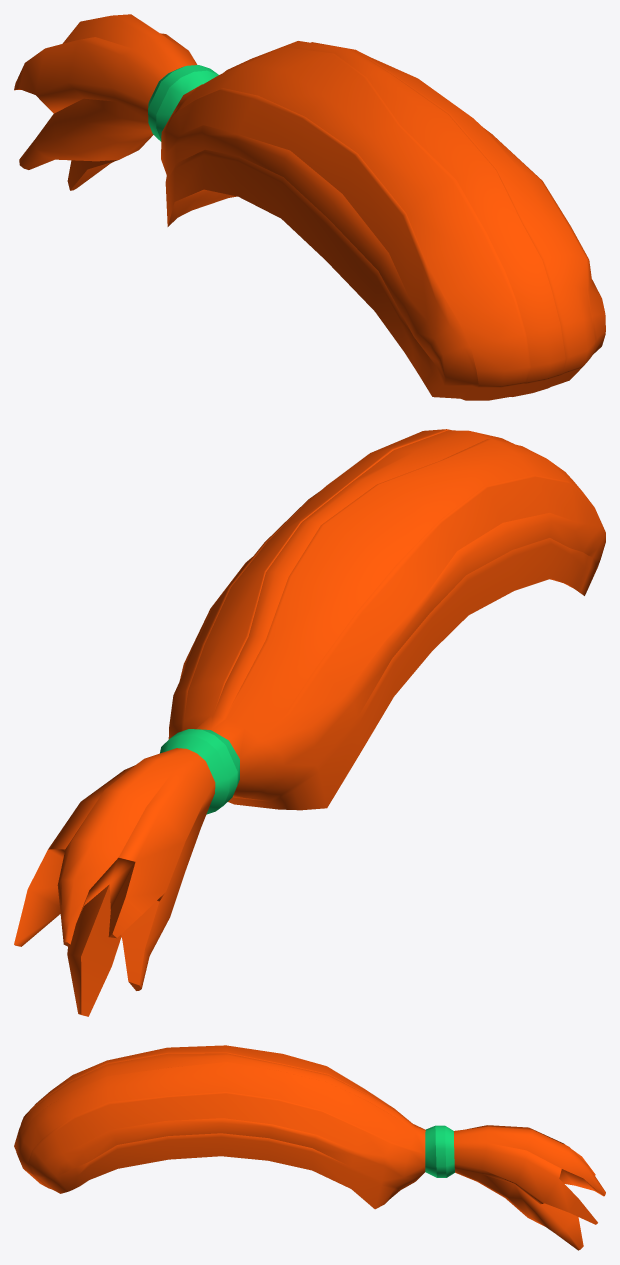
The model's file is Hair_21_06.fbx.
3 renders of one model, top to bottom at view 1: azimuth 30°, elevation 25°; view 2: azimuth 150°, elevation 25°; view 3: azimuth 270°, elevation 25°, orthographic. The views are drawn at different scales.
Visible parts, largest first — view 1: Hair_21_06; view 2: Hair_21_06; view 3: Hair_21_06.
Part boxes in pixels (x1,y1,x2,y2): Hair_21_06: (14, 14, 605, 400); Hair_21_06: (14, 429, 605, 1016); Hair_21_06: (14, 1045, 605, 1250).
Size of the model in its own units: 9.87 by 16.09 by 43.76.
